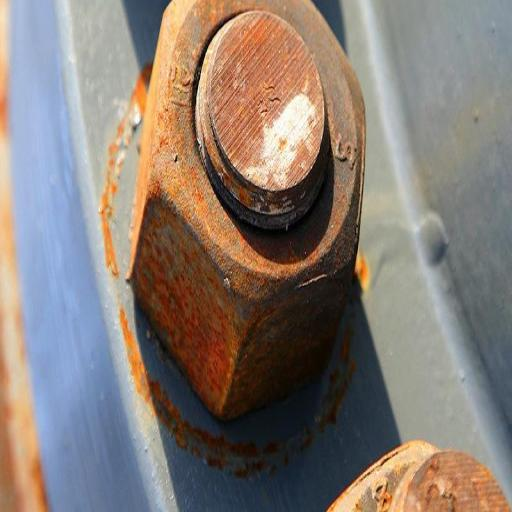corrosion: (327, 439, 511, 512), (126, 62, 151, 129)
